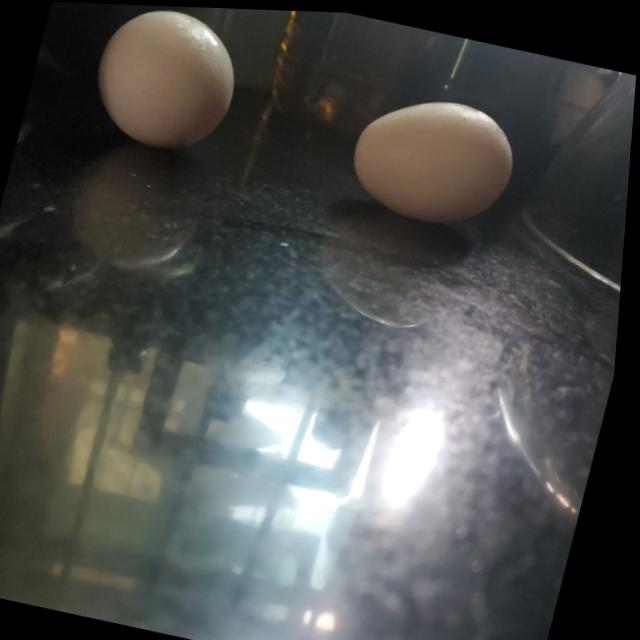egg: (346, 81, 534, 235), (83, 3, 252, 161)
